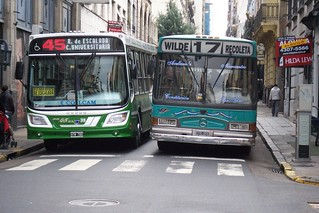bus: (16, 32, 152, 150), (148, 33, 258, 156)
